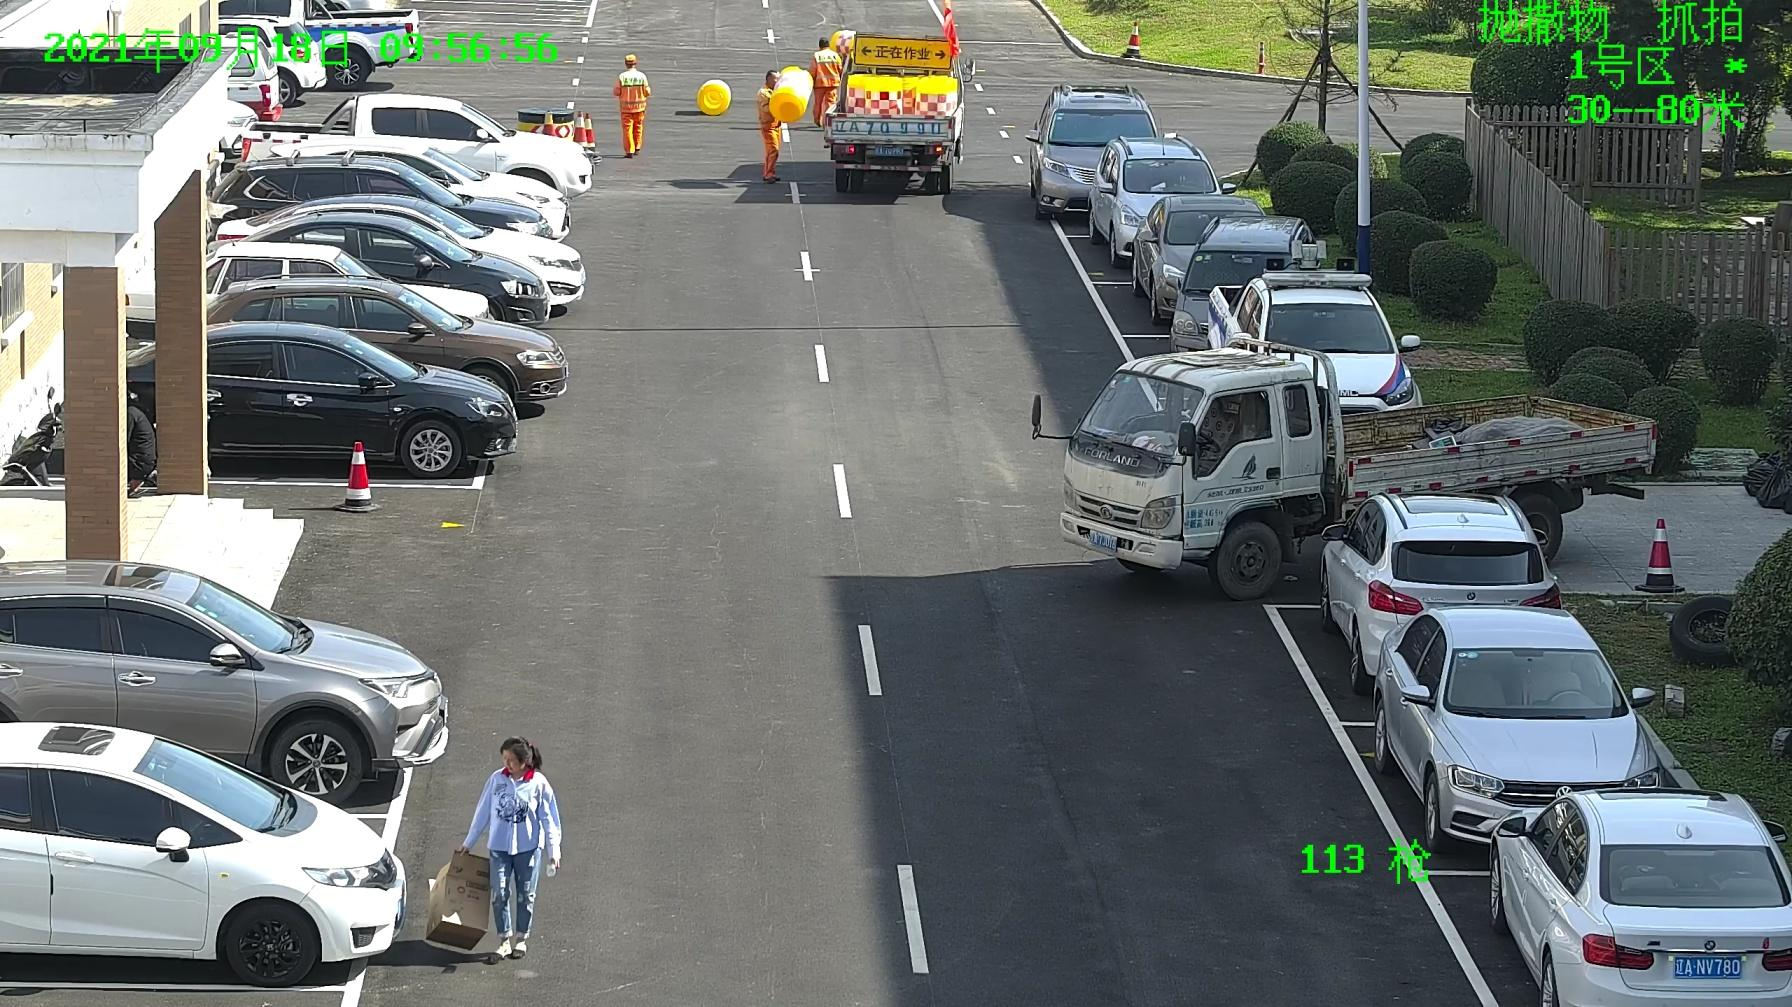cone_barrel: (767, 66, 812, 123), (916, 73, 955, 123), (862, 73, 900, 119), (694, 78, 729, 114), (843, 73, 862, 117), (827, 28, 854, 53)
